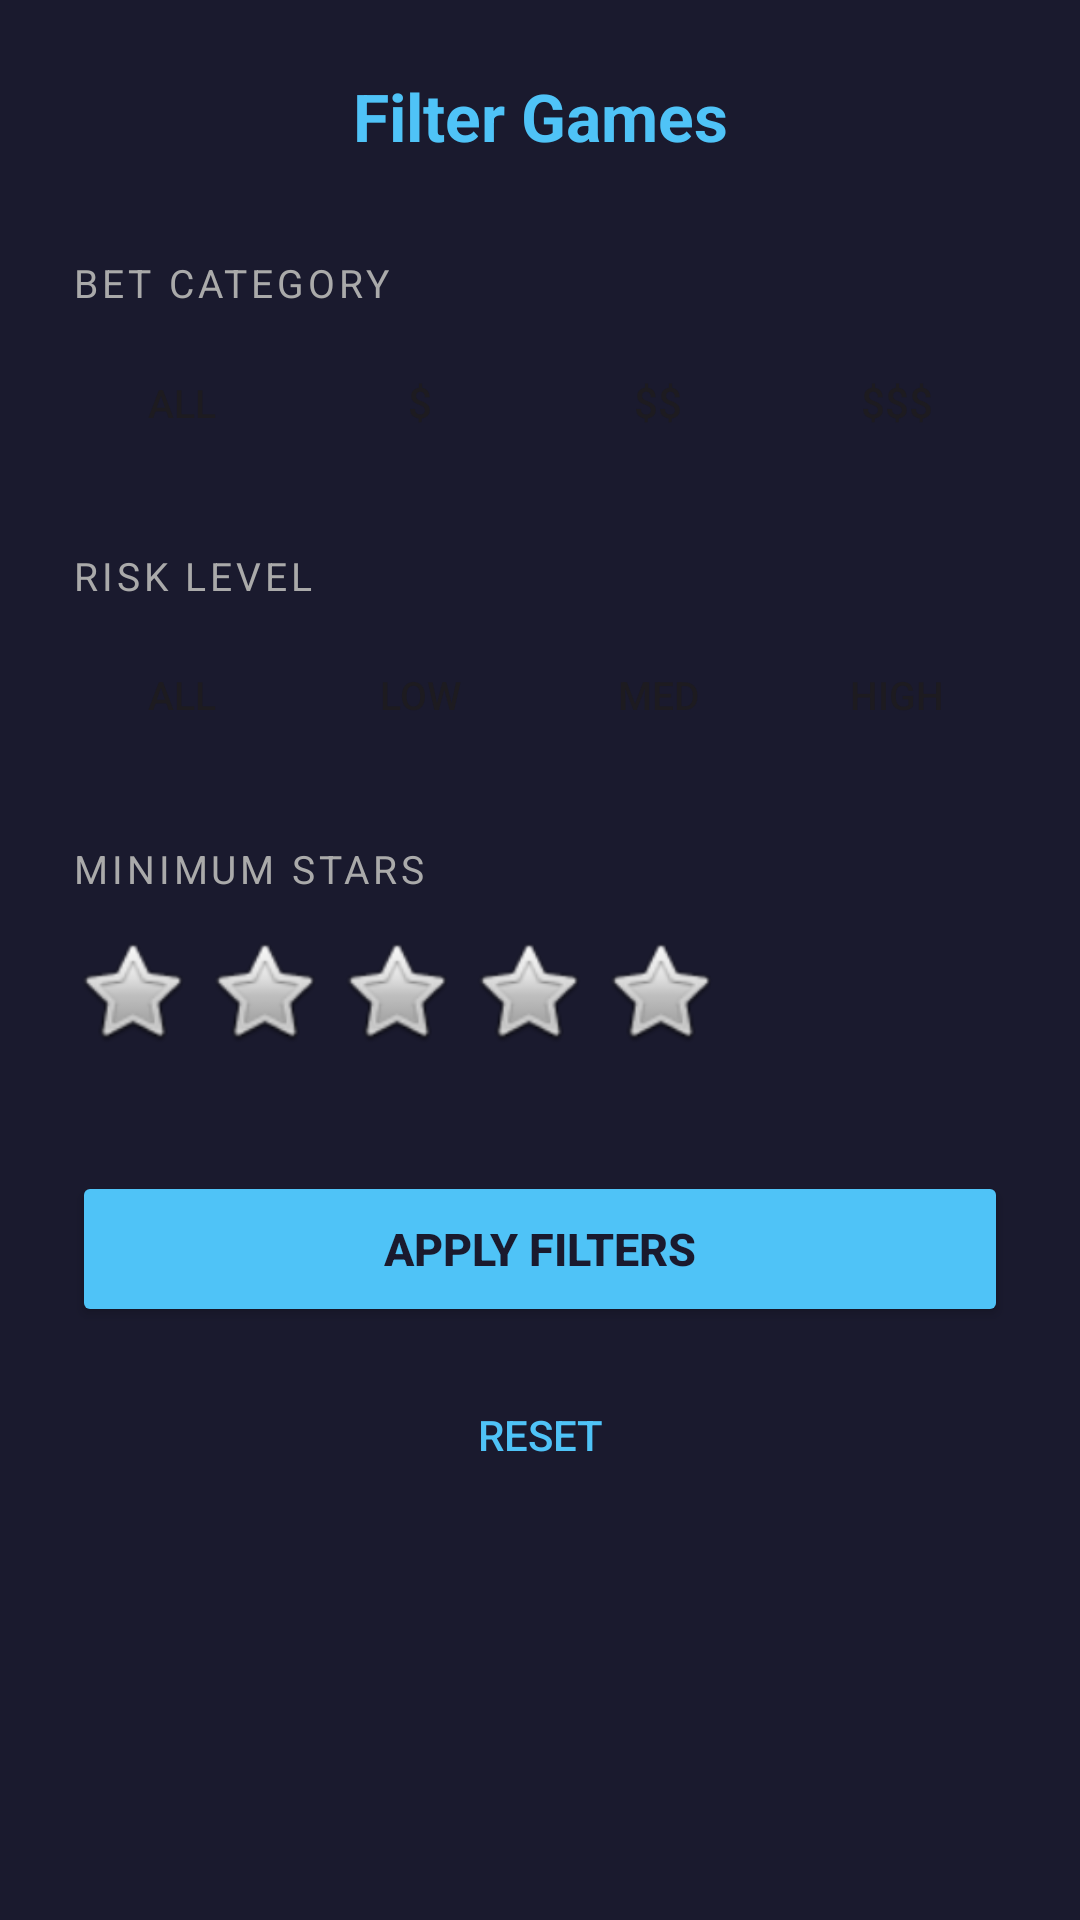

Icons on this 1080*1920 Android screen, each with its box as detection(x1, y1, x2, y2):
1 star: detection(85, 945, 181, 1036)
2 stars: detection(217, 945, 313, 1036)
3 stars: detection(349, 945, 445, 1036)
4 stars: detection(481, 945, 577, 1036)
5 stars: detection(613, 945, 709, 1036)
